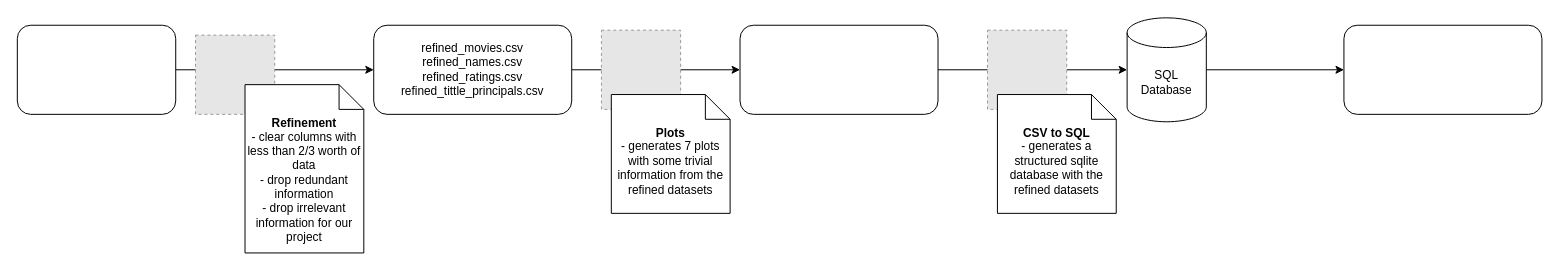
Image size: 1559x270. Some labels were removed from this diagram. Grey dashed boxes stand in for pictures. The shapes that lost their labels are listed below. From the top down, each one's centre as x and y in pixels, then its label:
At point (96, 69): "IMDb movies.csv IMDb names.csv IMDb ratings.csv IMDb tittle_principals.csv".
At point (838, 69): "Simple Plotting".
At point (1442, 69): "Data Exploring".
